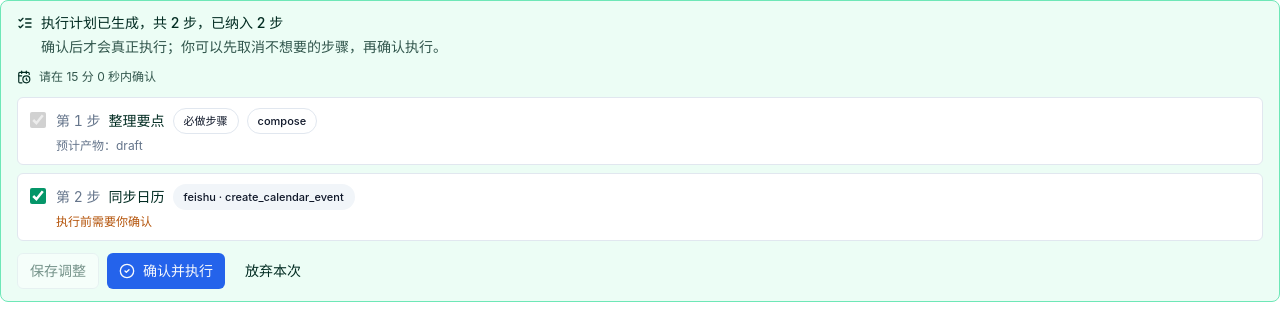
Test: TaskPlanPanel › 勾选改动必须先保存；确认在未保存时被禁用
This screenshot has width=1280, height=319.
Later steps or results of the test are not shown.
Expected: the button "确认并执行" is enabled, [107,253,225,289]
Expected: the button "保存调整" is disabled, [17,253,99,289]
What coordinates should you click on to do the following:
click the checkbox labelled "第 2 步 同步日历 feishu · create_calendar_event"
I would click on:
 (38, 196)
Its box is [30,188,46,204].
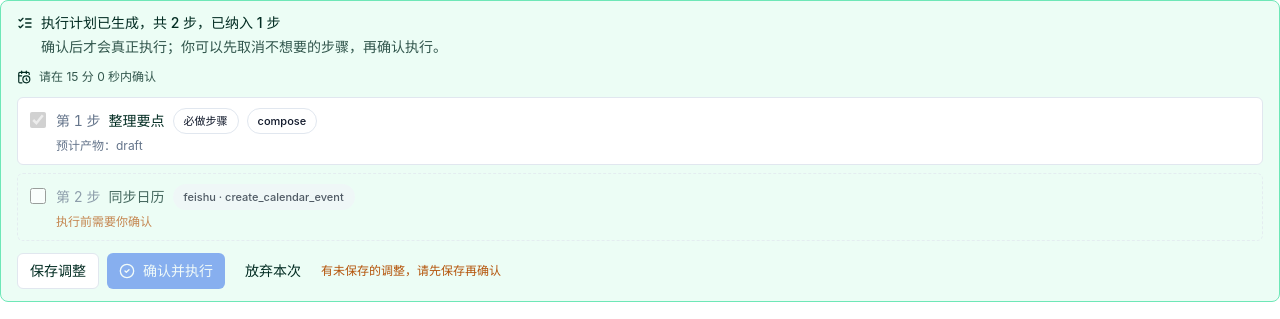
Now the text "有未保存的调整，请先保存再确认" is shown, box [321,263,501,279]
Now the button "保存调整" is enabled, box [17,253,99,289]
Now the button "确认并执行" is disabled, box [107,253,225,289]
